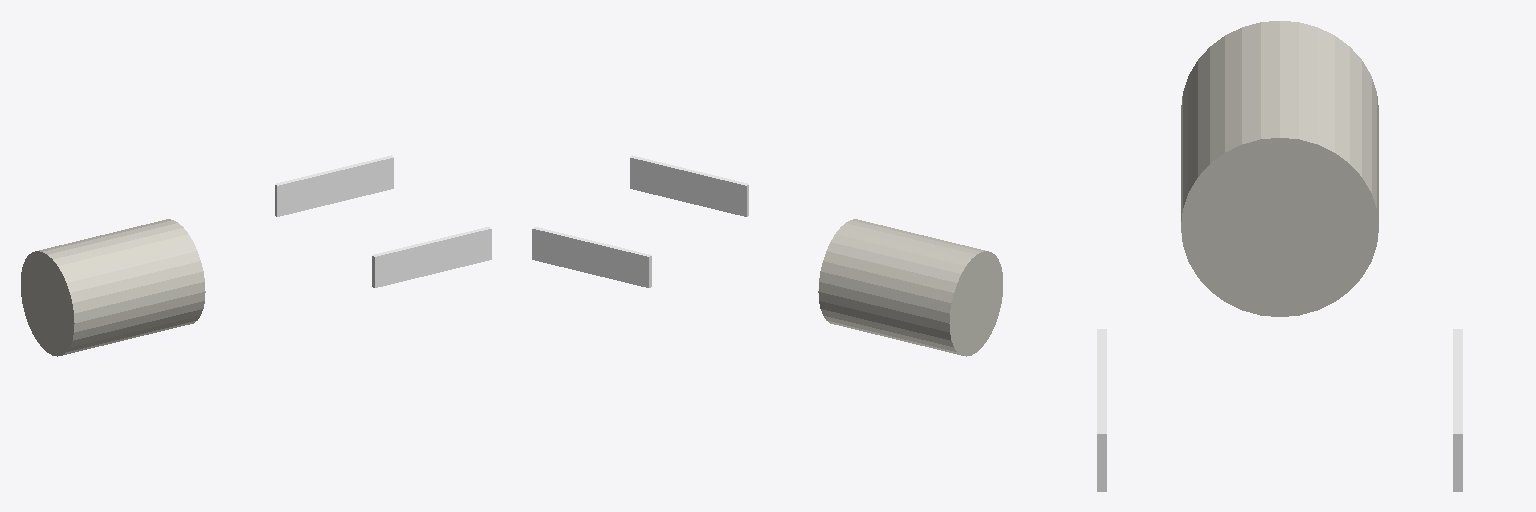
robot.urdf — LRMate:
<?xml version="1.0"?>
<robot name="LRMate">
	<material name="Yellow">
		<color rgba="1.0  1.0  0.0  1.0"/>
	</material>
	<material name="Black">
		<color rgba="0.0  0.0  0.0  1.0"/>
	</material>
	<material name="Gray">
		<color rgba="0.5  0.5  0.5  1.0"/>
	</material>
	<material name="gripper_white">
		<color rgba="1.0  1.0  1.0  1.0"/>
	</material>

	<link name="base">
		<inertial>
			<origin xyz="0.0  0.0  0.0" rpy="0.0  0.0  0.0"/>
			<mass value="0.0"/>
			<inertia ixx="0.0"  ixy="0.0"  ixz="0.0" iyy="0.0" iyz="0.0" izz="0.0" />
		</inertial>
		<visual name="base">
			<origin xyz="0.000   0.000   0.330" rpy="0.0  0.0  0.0"/>
			<geometry>
				<mesh filename="CAD/base.stl" scale="0.001   0.001   0.001"/>
			</geometry>
			<material name="Black"/>
		</visual>
		<collision>
			<origin xyz="0.000   0.000   0.330" rpy="0.0  0.0  0.0"/>
			<geometry>
				<mesh filename="CAD/base.stl" scale="0.001   0.001   0.001"/>
			</geometry>
		</collision>
	</link>
	<joint name="joint_1" type="revolute">
		<origin xyz="0.000   0.000   0.330" rpy="0.0000000000000000    0.0000000000000000    0.0000000000000000"/>
		<parent link="base"/>
		<child link="link_1"/>
		<axis xyz="0 0 1"/>
		<limit effort="224.1470270270270646" lower="-3.1415926535897931" upper="3.1415926535897931" velocity="0.8726646259971648"/>
	</joint>
	<link name="link_1">
		<inertial>
			<origin xyz="0.0185909590000000    0.0033700950000000   -0.0770907100000000" rpy="-1.5707963267948966    0.0000000000000000    0.0000000000000000"/>
			<mass value="2.3984700000000001"/>
			<inertia ixx="0.0233179728630000"  ixy="0.0000000000000000"  ixz="0.0000000000000000" iyy="0.0193776178710000" iyz="0.0000000000000000" izz="0.0139141526340000" />
		</inertial>
		<visual name="link_1">
			<origin xyz="0.050   0.000   0.000" rpy="-1.5707963267948966    0.0000000000000000    0.0000000000000000"/>
			<geometry>
				<mesh filename="CAD/link1.stl" scale="0.001   0.001   0.001"/>
			</geometry>
			<material name="Yellow"/>
		</visual>
		<collision>
			<origin xyz="0.050   0.000   0.000" rpy="-1.5707963267948966    0.0000000000000000    0.0000000000000000"/>
			<geometry>
				<mesh filename="CAD/link1.stl" scale="0.001   0.001   0.001"/>
			</geometry>
		</collision>
	</link>
	<joint name="joint_2" type="revolute">
		<origin xyz="0.050   0.000   0.000" rpy="-1.5707963267948966    0.0000000000000000    0.0000000000000000"/>
		<parent link="link_1"/>
		<child link="link_2"/>
		<axis xyz="0 0 1"/>
		<limit effort="236.6760000000000161" lower="-3.1415926535897931" upper="3.1415926535897931" velocity="0.8726646259971648"/>
	</joint>
	<link name="link_2">
		<inertial>
			<origin xyz="-0.0071079890000000   -0.1326139250000000    0.0247800790000000" rpy="3.1415926535897931    0.0000000000000000   -1.5707963267948966"/>
			<mass value="7.8018689999999999"/>
			<inertia ixx="0.0328971739050000"  ixy="0.0000000000000000"  ixz="0.0000000000000000" iyy="0.2070365793270000" iyz="0.0000000000000000" izz="0.1883991938960000" />
		</inertial>
		<visual name="link_2">
			<origin xyz="0.000  -0.440   0.000" rpy="3.1415926535897931    0.0000000000000000   -1.5707963267948966"/>
			<geometry>
				<mesh filename="CAD/link2.stl" scale="0.001   0.001   0.001"/>
			</geometry>
			<material name="Yellow"/>
		</visual>
		<collision>
			<origin xyz="0.000  -0.440   0.000" rpy="3.1415926535897931    0.0000000000000000   -1.5707963267948966"/>
			<geometry>
				<mesh filename="CAD/link2.stl" scale="0.001   0.001   0.001"/>
			</geometry>
		</collision>
	</link>
	<joint name="joint_3" type="revolute">
		<origin xyz="0.000  -0.440   0.000" rpy="3.1415926535897931    0.0000000000000000   -1.5707963267948966"/>
		<parent link="link_2"/>
		<child link="link_3"/>
		<axis xyz="0 0 1"/>
		<limit effort="94.9241379310344939" lower="-3.1415926535897931" upper="3.1415926535897931" velocity="0.8726646259971648"/>
	</joint>
	<link name="link_3">
		<inertial>
			<origin xyz="0.0057931330000000   -0.0059066300000000   -0.0207324280000000" rpy="-1.5707963267948966    0.0000000000000000    0.0000000000000000"/>
			<mass value="2.9847210000000000"/>
			<inertia ixx="0.0081019474240000"  ixy="0.0000000000000000"  ixz="0.0000000000000000" iyy="0.0068697082660000" iyz="0.0000000000000000" izz="0.0079818513480000" />
		</inertial>
		<visual name="link_3">
			<origin xyz="0.035   0.000   0.000" rpy="-1.5707963267948966    0.0000000000000000    0.0000000000000000"/>
			<geometry>
				<mesh filename="CAD/link3.stl" scale="0.001   0.001   0.001"/>
			</geometry>
			<material name="Yellow"/>
		</visual>
		<collision>
			<origin xyz="0.035   0.000   0.000" rpy="-1.5707963267948966    0.0000000000000000    0.0000000000000000"/>
			<geometry>
				<mesh filename="CAD/link3.stl" scale="0.001   0.001   0.001"/>
			</geometry>
		</collision>
	</link>
	<joint name="joint_4" type="revolute">
		<origin xyz="0.035   0.000   0.000" rpy="-1.5707963267948966    0.0000000000000000    0.0000000000000000"/>
		<parent link="link_3"/>
		<child link="link_4"/>
		<axis xyz="0 0 1"/>
		<limit effort="23.8998260869565229" lower="-3.1415926535897931" upper="3.1415926535897931" velocity="0.8726646259971648"/>
	</joint>
	<link name="link_4">
		<inertial>
			<origin xyz="-0.0002457140000000    0.0028224150000000   -0.2060611280000000" rpy="1.5707963267948966    0.0000000000000000    0.0000000000000000"/>
			<mass value="4.1441780000000001"/>
			<inertia ixx="0.0529101059260000"  ixy="0.0000000000000000"  ixz="0.0000000000000000" iyy="0.0057046189630000" iyz="0.0000000000000000" izz="0.0531509714450000" />
		</inertial>
		<visual name="link_4">
			<origin xyz="0.000   0.000  -0.420" rpy="1.5707963267948966    0.0000000000000000    0.0000000000000000"/>
			<geometry>
				<mesh filename="CAD/link4.stl" scale="0.001   0.001   0.001"/>
			</geometry>
			<material name="Yellow"/>
		</visual>
		<collision>
			<origin xyz="0.000   0.000  -0.420" rpy="1.5707963267948966    0.0000000000000000    0.0000000000000000"/>
			<geometry>
				<mesh filename="CAD/link4.stl" scale="0.001   0.001   0.001"/>
			</geometry>
		</collision>
	</link>
	<joint name="joint_5" type="revolute">
		<origin xyz="0.000   0.000  -0.420" rpy="1.5707963267948966    0.0000000000000000    0.0000000000000000"/>
		<parent link="link_4"/>
		<child link="link_5"/>
		<axis xyz="0 0 1"/>
		<limit effort="13.8166666666666664" lower="-3.1415926535897931" upper="3.1415926535897931" velocity="0.8726646259971648"/>
	</joint>
	<link name="link_5">
		<inertial>
			<origin xyz="0.0000480440000000   -0.0273839680000000   -0.0044381510000000" rpy="-1.5707963267948966    0.0000000000000000    0.0000000000000000"/>
			<mass value="1.7004200000000000"/>
			<inertia ixx="0.0024795564500000"  ixy="0.0000000000000000"  ixz="0.0000000000000000" iyy="0.0024375453070000" iyz="0.0000000000000000" izz="0.0012003431970000" />
		</inertial>
		<visual name="link_5">
			<origin xyz="0.000   0.000   0.000" rpy="-1.5707963267948966    0.0000000000000000    0.0000000000000000"/>
			<geometry>
				<mesh filename="CAD/link5.stl" scale="0.001   0.001   0.001"/>
			</geometry>
			<material name="Yellow"/>
		</visual>
		<collision>
			<origin xyz="0.000   0.000   0.000" rpy="-1.5707963267948966    0.0000000000000000    0.0000000000000000"/>
			<geometry>
				<mesh filename="CAD/link5.stl" scale="0.001   0.001   0.001"/>
			</geometry>
		</collision>
	</link>
	<joint name="joint_6" type="revolute">
		<origin xyz="0.000   0.000   0.000" rpy="-1.5707963267948966    0.0000000000000000    0.0000000000000000"/>
		<parent link="link_5"/>
		<child link="link_6"/>
		<axis xyz="0 0 1"/>
		<limit effort="6.8606896551724139" lower="-3.1415926535897931" upper="3.1415926535897931" velocity="0.8726646259971648"/>
	</joint>
	<link name="link_6">
		<inertial>
			<origin xyz="-0.0001200000000000    0.0000000000000000   -0.0705300000000000" rpy="3.1415926535897931    0.0000000000000000    0.0000000000000000"/>
			<mass value="0.1700000000000000"/>
			<inertia ixx="0.0000318000000000"  ixy="0.0000000000000000"  ixz="0.0000000000000000" iyy="0.0000315000000000" iyz="0.0000000000000000" izz="0.0000542000000000" />
		</inertial>
		<visual name="link_6">
			<origin xyz="0.000   0.000  -0.080" rpy="3.1415926535897931    0.0000000000000000    0.0000000000000000"/>
			<geometry>
				<mesh filename="CAD/link6.stl" scale="0.001   0.001   0.001"/>
			</geometry>
			<material name="Black"/>
		</visual>
		<collision>
			<origin xyz="0.000   0.000  -0.080" rpy="3.1415926535897931    0.0000000000000000    0.0000000000000000"/>
			<geometry>
				<mesh filename="CAD/link6.stl" scale="0.001   0.001   0.001"/>
			</geometry>
		</collision>
	</link>

	<link name="sensor">
        <inertial>
            <origin xyz="0 0 0" rpy="0 0 0"/>
            <mass value="0.5"/>
            <inertia ixx="0.0001"  ixy="0"  ixz="0" iyy="0.0001" iyz="0" izz="0.0001" />
        </inertial>

        <visual>
            <origin xyz="0 0 -0.102" rpy="0 0 0" />
            <geometry>
                <cylinder radius="0.025" length="0.07"/>
            </geometry>
            <material name="">
                <color rgba="0.86 0.85 0.81 1.0"/>
            </material>
        </visual>

        <collision>
            <origin xyz="0 0 -0.102" rpy="0 0 0"/>
            <geometry>
                <cylinder radius="0.025" length="0.07"/>
            </geometry>
        </collision>
    </link>

	<!-- gripper -->
	<link name="gripper_hand">
		<inertial>
			<origin rpy="0 0 0" xyz="0 0 0.04"/>
			<mass value=".81"/>
			<inertia ixx="0.1" ixy="0" ixz="0" iyy="0.1" iyz="0" izz="0.1"/>
		</inertial>
		<visual>
			<geometry>
				<mesh filename="CAD/gripper_1/visual/hand.stl" scale="0.001 0.001 0.001"/>
			</geometry>
			<material name="gripper_white"/>
		</visual>
		<collision>
		<geometry>
			<mesh filename="CAD/gripper_1/collision/hand.stl" scale="0.001 0.001 0.001"/>
		</geometry>
		<material name="gripper_white"/>
		</collision>
  	</link>

  	<link name="gripper_leftfinger">
		<contact>
			<friction_anchor/>
			<stiffness value="30000.0"/>
			<damping value="1000.0"/>
			<spinning_friction value="0.1"/>
			<lateral_friction value="1.0"/>
		</contact>
		<inertial>
			<origin rpy="0 0 0" xyz="0 0.01 0.02"/>
			<mass value="0.1"/>
			<inertia ixx="0.1" ixy="0" ixz="0" iyy="0.1" iyz="0" izz="0.1"/>
		</inertial>
		<visual>
			<geometry>
				<mesh filename="CAD/gripper_1/visual/finger_v2.stl" scale="0.001 0.001 0.001"/>
			</geometry>
			<material name="gripper_white"/>
		</visual>
		<collision>
			<geometry>
				<mesh filename="CAD/gripper_1/collision/finger_v2.stl" scale="0.001 0.001 0.001"/>
			</geometry>
			<material name="gripper_white"/>
		</collision>
	</link>

  	<link name="gripper_rightfinger">
    	<contact>
			<friction_anchor/>
			<stiffness value="30000.0"/>
			<damping value="1000.0"/>
			<spinning_friction value="0.1"/>
			<lateral_friction value="1.0"/>
		</contact>

  		<inertial>
			<origin rpy="0 0 0" xyz="0 -0.01 0.02"/>
			<mass value="0.1"/>
			<inertia ixx="0.1" ixy="0" ixz="0" iyy="0.1" iyz="0" izz="0.1"/>
		</inertial>
		<visual>
			<origin rpy="0 0 3.14159265359" xyz="0 0 0"/>
			<geometry>
				<mesh filename="CAD/gripper_1/visual/finger_v2.stl" scale="0.001 0.001 0.001"/>
			</geometry>
			<material name="gripper_white"/>
		</visual>
		<collision>
			<origin rpy="0 0 3.14159265359" xyz="0 0 0"/>
			<geometry>
				<mesh filename="CAD/gripper_1/collision/finger_v2.stl" scale="0.001 0.001 0.001"/>
			</geometry>
			<material name="gripper_white"/>
		</collision>
  	</link>



	<joint name="joint_6-sensor" type="fixed">
        <origin rpy="0 0 0" xyz="0 0 -0.014"/>
        <parent link="link_6"/>
        <child link="sensor"/>
    </joint>

    <joint name="sensor-gripper" type="fixed">
        <origin rpy="1.5707963267948966 0.0 1.5707963267948966" xyz="0.0 0.0 -0.137"/>
        <parent link="sensor"/>
        <child link="gripper_hand"/>
    </joint>

	<joint name="gripper_finger_joint1" type="prismatic">
		<parent link="gripper_hand"/>
		<child link="gripper_leftfinger"/>
		<origin rpy="0 1.5707963267948966 0" xyz="0.045 -0.078 0"/>
		<axis xyz="0 0 -1"/>
		<limit effort="20" lower="0.0" upper="0.04" velocity="0.2"/>
	</joint>


	<joint name="gripper_finger_joint2" type="prismatic">
		<parent link="gripper_hand"/>
		<child link="gripper_rightfinger"/>
		<origin rpy="3.14159265359 1.5707963267948966 0" xyz="-0.045 -0.078 0"/>
		<axis xyz="0 0 -1"/>
		<limit effort="20" lower="0.0" upper="0.04" velocity="0.2"/>
		<mimic joint="gripper_finger_joint1"/>
	</joint>


    
</robot>

--- Render facts (derived) ---
3 views of the same robot in one strip: view 1: azimuth 30°, elevation 25°; view 2: azimuth 150°, elevation 25°; view 3: azimuth 270°, elevation 25° (orthographic).
Model LRMate with 11 links and 10 joints (6 revolute, 2 prismatic, 2 fixed), rooted at base, posed every joint at zero.
Visible links, largest first — view 1: sensor, gripper_rightfinger, gripper_leftfinger; view 2: sensor, gripper_leftfinger, gripper_rightfinger; view 3: sensor, gripper_leftfinger, gripper_rightfinger.
Link boxes in pixels (box(x1,y1,x2,y2)): sensor: box(21, 219, 205, 356); gripper_rightfinger: box(372, 227, 491, 287); gripper_leftfinger: box(275, 155, 393, 216); sensor: box(818, 219, 1002, 356); gripper_leftfinger: box(532, 227, 651, 287); gripper_rightfinger: box(630, 155, 748, 216); sensor: box(1181, 21, 1378, 316); gripper_leftfinger: box(1453, 329, 1462, 491); gripper_rightfinger: box(1097, 329, 1106, 491).
Size in the robot's own frame: 0.2105 by 0.0925 by 0.05 metres.
2 mesh visuals loaded from 9 distinct referenced files (1 binary STL); not drawn: 8 (reference not matched to a file when rendering).